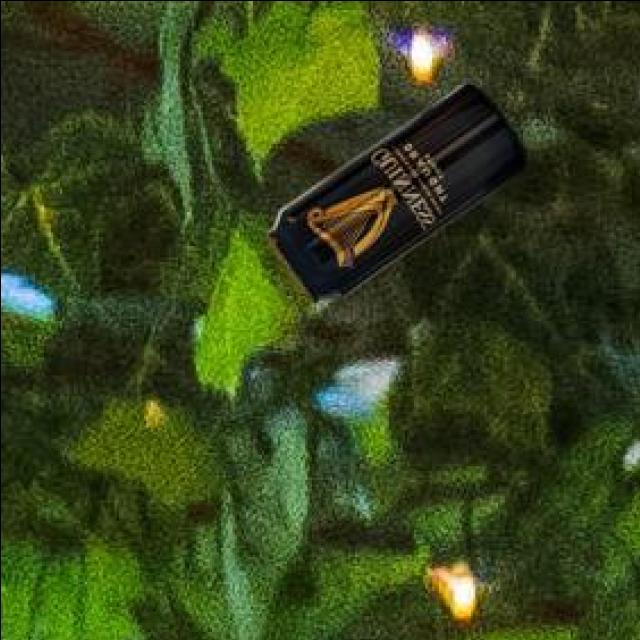logam: (269, 78, 528, 298)
